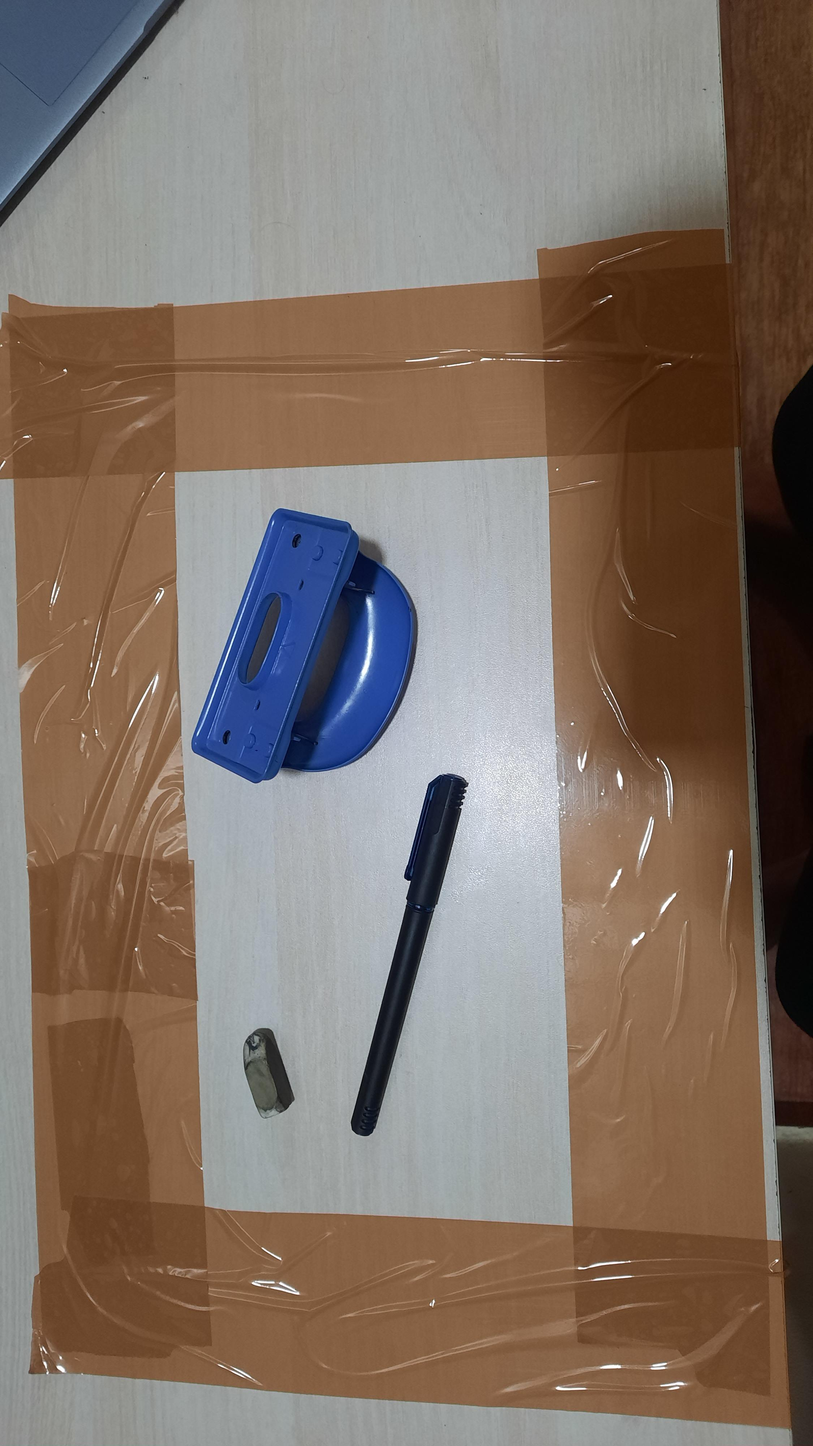Eraser: (242, 1027, 295, 1120)
Pen: (351, 773, 469, 1137)
Punch: (190, 507, 418, 784)
